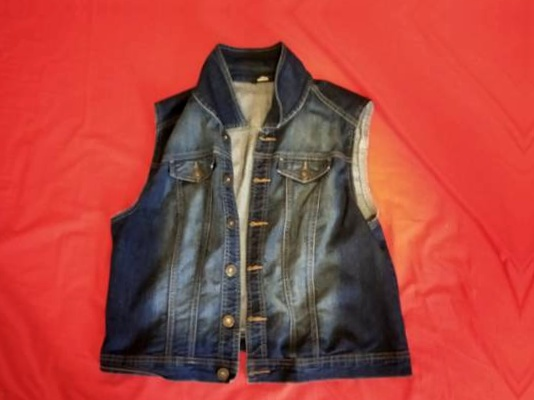Blazer: (80, 55, 426, 392)
